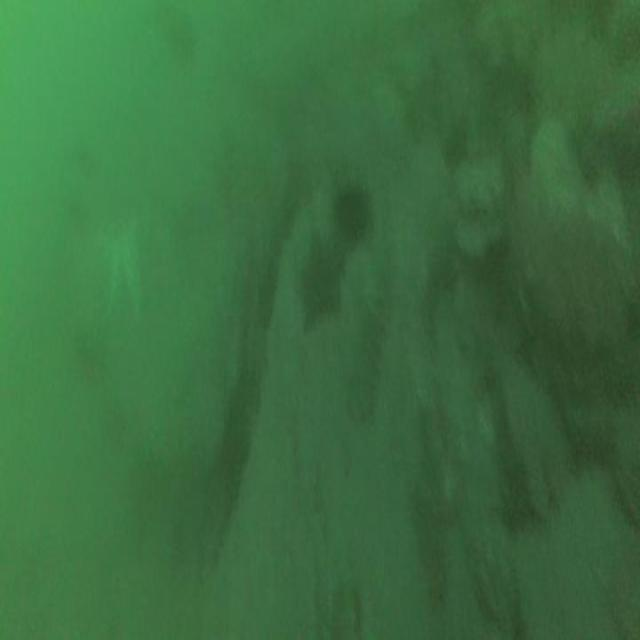echinus: (335, 188, 371, 240)
holothurian: (344, 254, 390, 414)
starfish: (295, 232, 343, 324)
